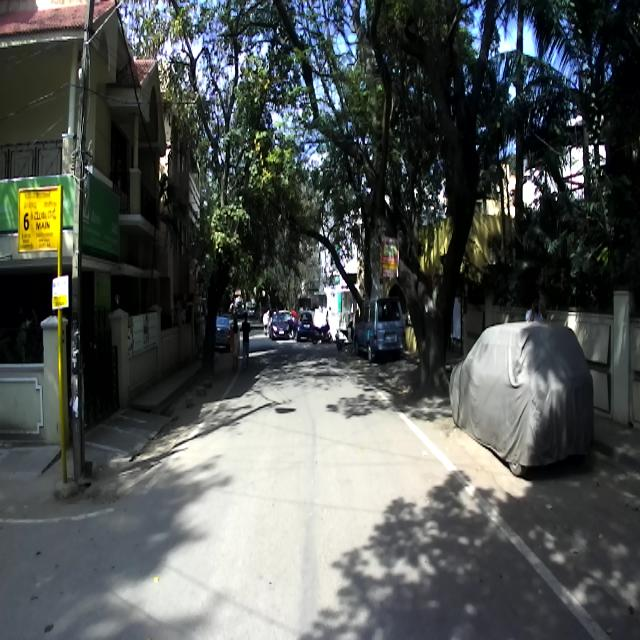car ahead at: (452, 312, 600, 479)
electric pole ahead at: (52, 0, 108, 489)
